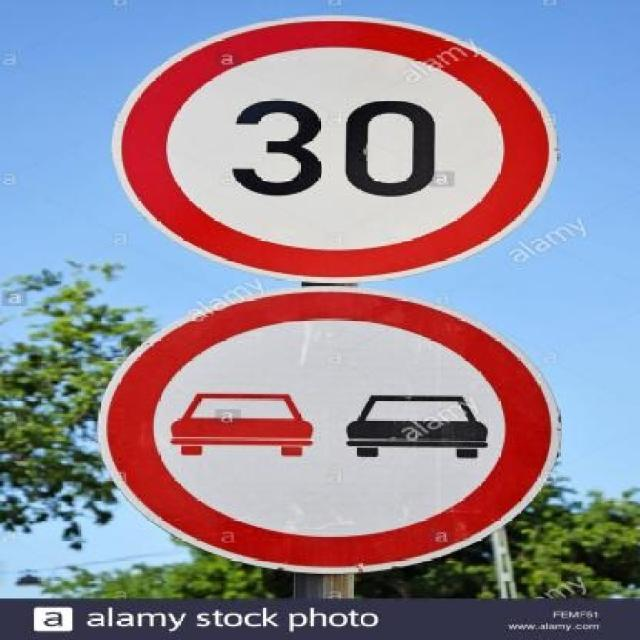forb_speed_over_30: (118, 20, 547, 283)
